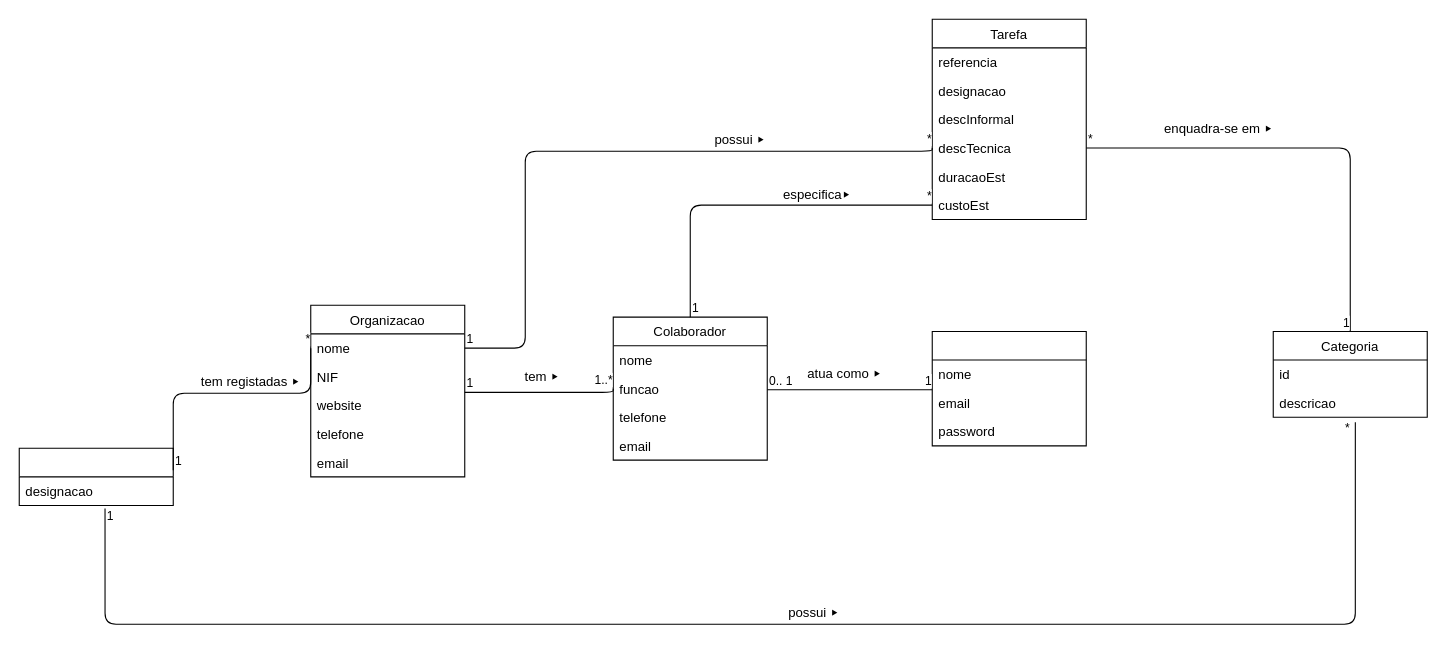
This 1447x645 diagram has some shape labels left out. The box of each missing label's shape, as (x1, y1, x2, y2) in pixels:
Plataforma: (18, 447, 173, 505)
Utilizador: (931, 330, 1086, 446)
